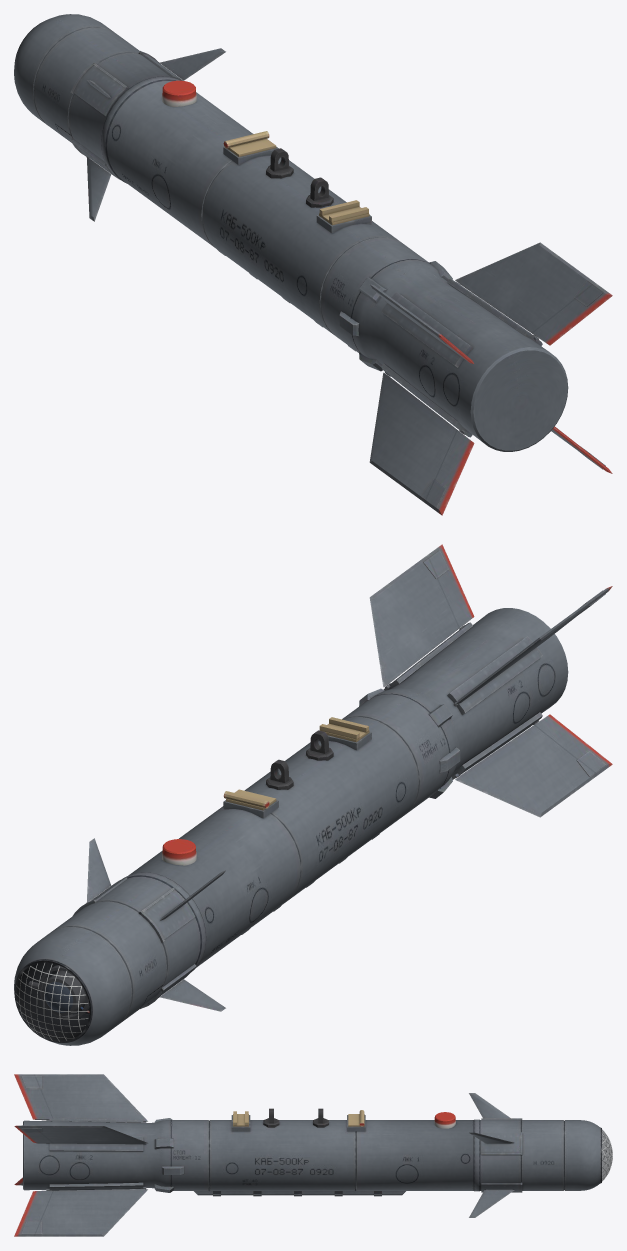
Rendered from w_kab500kr.glb.
3 renders of one model, top to bottom at view 1: azimuth 30°, elevation 25°; view 2: azimuth 150°, elevation 25°; view 3: azimuth 270°, elevation 25°, orthographic. The views are drawn at different scales.
Visible parts, largest first — view 1: body|K5K_body, body|K5K_block, body|K5K_steel; view 2: body|K5K_body, body|glass, body|K5K_block, body|K5K_grid, body|K5K_optic, body|K5K_steel; view 3: body|K5K_body, body|K5K_block, body|glass, body|K5K_steel.
Part boxes in pixels (x1,y1,x2,y2): body|K5K_body: [14, 14, 612, 515]; body|K5K_block: [162, 80, 369, 225]; body|K5K_steel: [266, 148, 333, 207]; body|K5K_body: [14, 544, 612, 1045]; body|glass: [16, 962, 89, 1041]; body|K5K_block: [162, 717, 369, 865]; body|K5K_grid: [15, 963, 88, 1041]; body|K5K_optic: [28, 965, 89, 1019]; body|K5K_steel: [59, 730, 333, 1012]; body|K5K_body: [14, 1074, 601, 1236]; body|K5K_block: [233, 1110, 455, 1128]; body|glass: [602, 1129, 612, 1180]; body|K5K_steel: [263, 1108, 328, 1127].
Size of the model in its own units: 0.6214 by 0.6214 by 3.05.
Materials: 7 (3 with a texture image).
